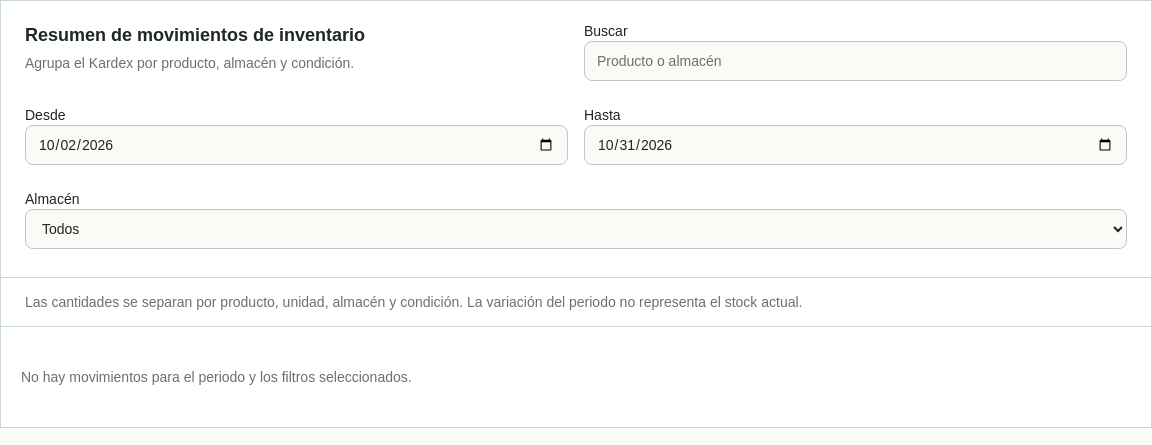
Test: ReporteResumenMovimientos › impide consultar un intervalo invertido y lo explica junto al filtro
The image size is (1152, 445).
In the date field labelled "Desde": (296, 145) [25, 125, 568, 165], type "2026-09-30"
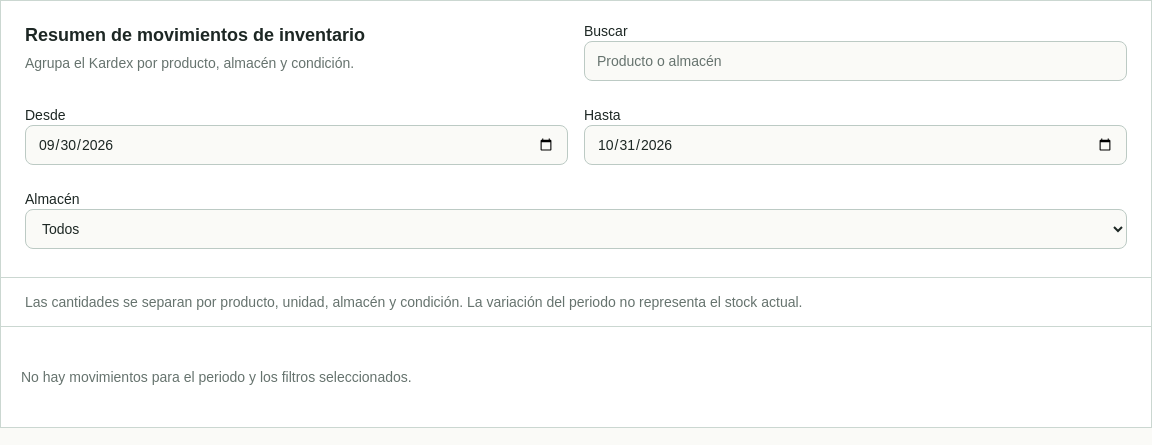
In the date field labelled "Hasta": (856, 145) [584, 125, 1127, 165], type "2026-09-01"
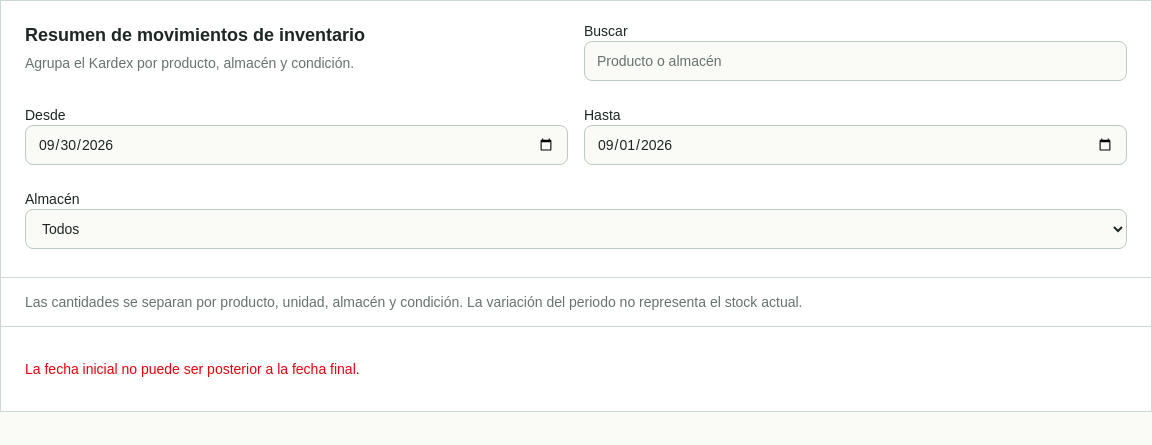
Expected: the message reads "La fecha inicial no puede ser posterior a la fecha final.", [25, 361, 360, 377]
